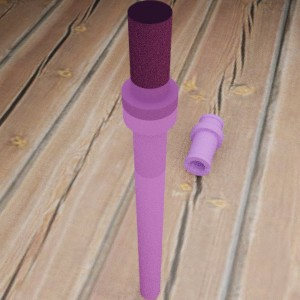lego: (121, 0, 178, 299), (183, 113, 223, 175)
